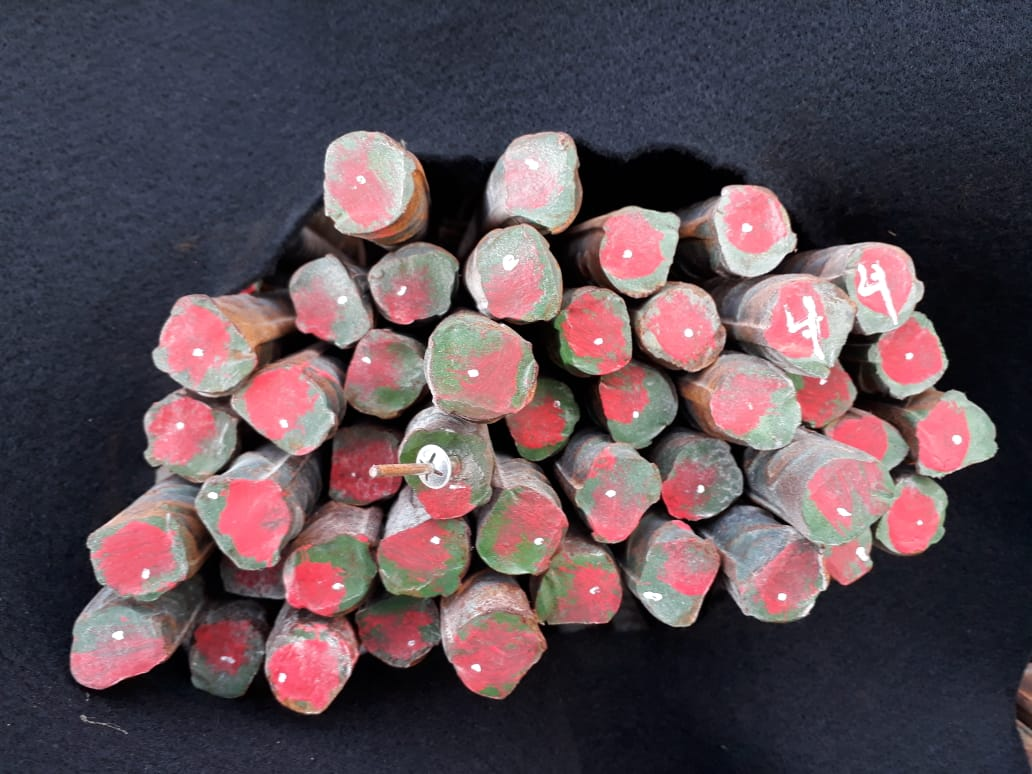dipstick: (424, 315, 538, 421), (151, 292, 258, 398), (484, 127, 585, 235), (225, 363, 340, 457), (193, 475, 303, 572), (442, 605, 549, 704), (726, 525, 828, 624), (323, 128, 418, 233), (464, 224, 564, 323), (393, 426, 497, 521), (762, 277, 858, 375), (86, 516, 193, 603), (474, 484, 568, 581), (633, 279, 728, 372), (141, 398, 242, 485), (635, 533, 721, 635), (573, 448, 663, 545), (284, 253, 373, 348), (262, 630, 356, 719), (278, 530, 378, 613), (596, 205, 682, 301), (365, 240, 461, 325), (713, 184, 798, 280), (69, 608, 169, 689), (704, 370, 800, 453), (343, 328, 430, 419), (867, 308, 950, 403), (594, 362, 681, 451), (845, 243, 928, 336), (377, 517, 470, 599), (913, 390, 999, 477), (184, 610, 263, 704), (323, 426, 406, 512), (533, 547, 622, 625), (555, 286, 633, 375), (662, 440, 745, 520), (355, 596, 442, 672), (873, 473, 949, 557), (507, 380, 582, 465), (778, 354, 859, 429), (825, 414, 909, 475), (814, 521, 875, 587)
